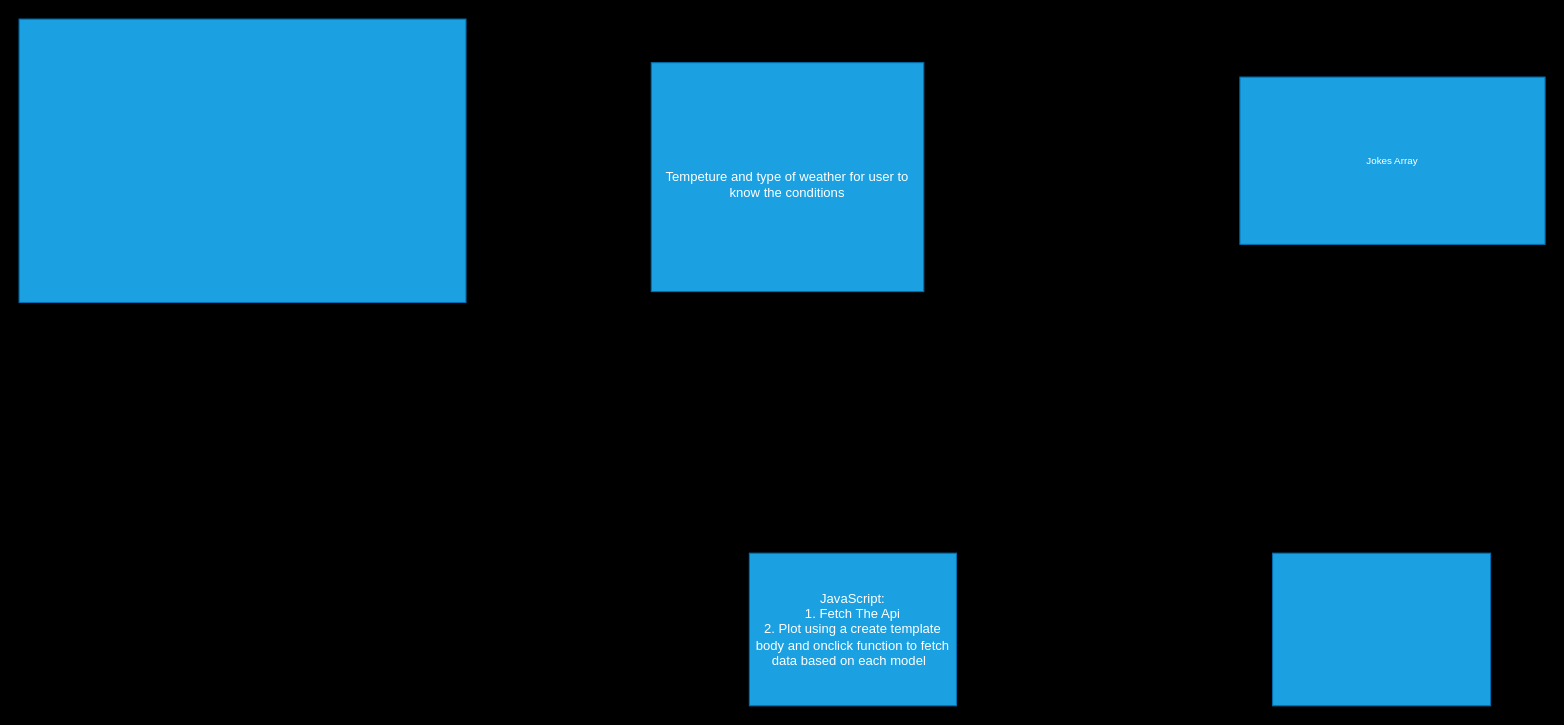
This 1564x725 diagram has some shape labels left out. The centre of each missing label's shape, as x and y in pixels:
Controller/Mapper WeatherRequest.java: point 1381,629
Weather Cloudy Snowy Rainy Sunny High UV Indec High Fog: point 242,160
